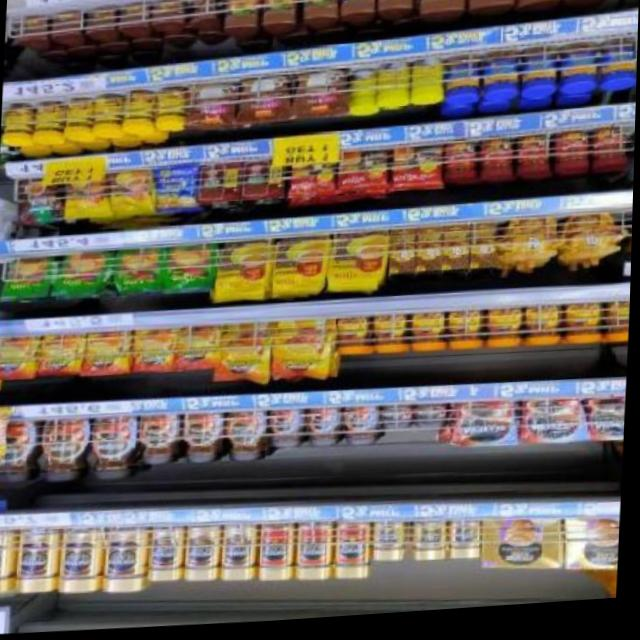Coffee: (272, 322, 332, 379), (40, 418, 89, 483), (220, 324, 272, 384), (94, 415, 138, 482), (17, 527, 60, 594), (456, 404, 516, 450), (61, 527, 101, 594), (525, 403, 583, 449), (106, 528, 144, 595), (140, 414, 181, 468), (84, 332, 132, 377), (227, 413, 268, 465), (224, 527, 259, 583), (187, 526, 221, 583), (184, 414, 222, 465), (40, 332, 86, 374), (151, 528, 185, 584), (133, 330, 177, 373), (179, 328, 223, 371), (590, 401, 628, 446), (0, 336, 36, 379), (486, 312, 522, 354), (565, 309, 601, 350), (411, 316, 445, 357), (527, 310, 560, 352), (308, 410, 342, 450), (272, 411, 305, 451), (416, 526, 448, 566), (374, 526, 406, 566), (346, 410, 378, 450), (374, 319, 407, 357), (449, 316, 481, 355), (336, 321, 369, 357), (452, 525, 482, 564), (610, 308, 632, 349), (415, 408, 448, 433), (383, 408, 413, 434), (0, 527, 10, 591)
